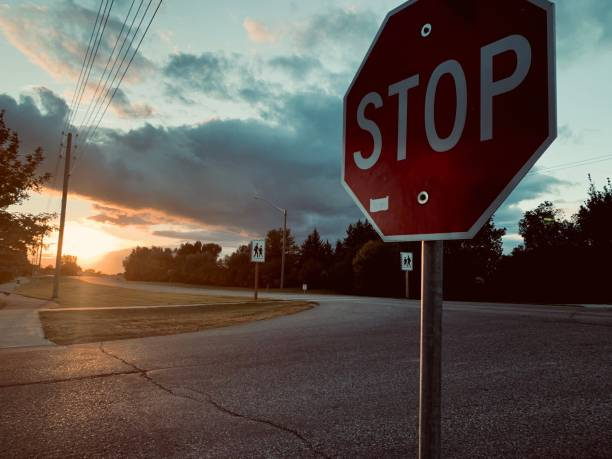StopSign: (340, 0, 556, 242)
